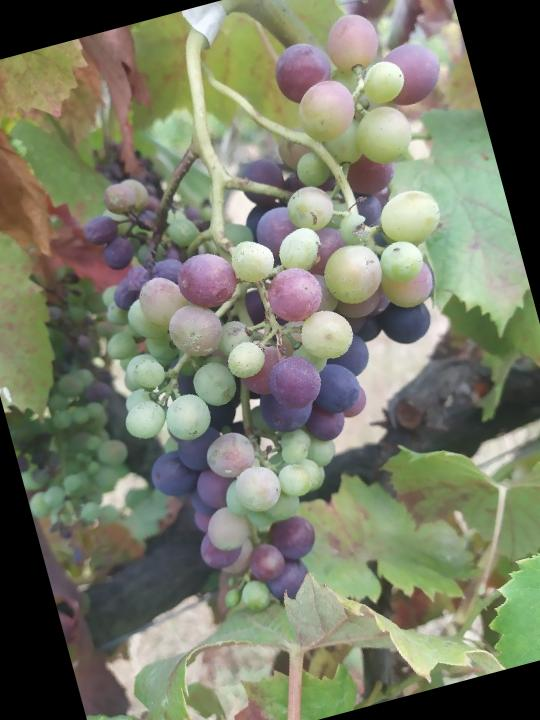grape: (38, 0, 540, 639)
